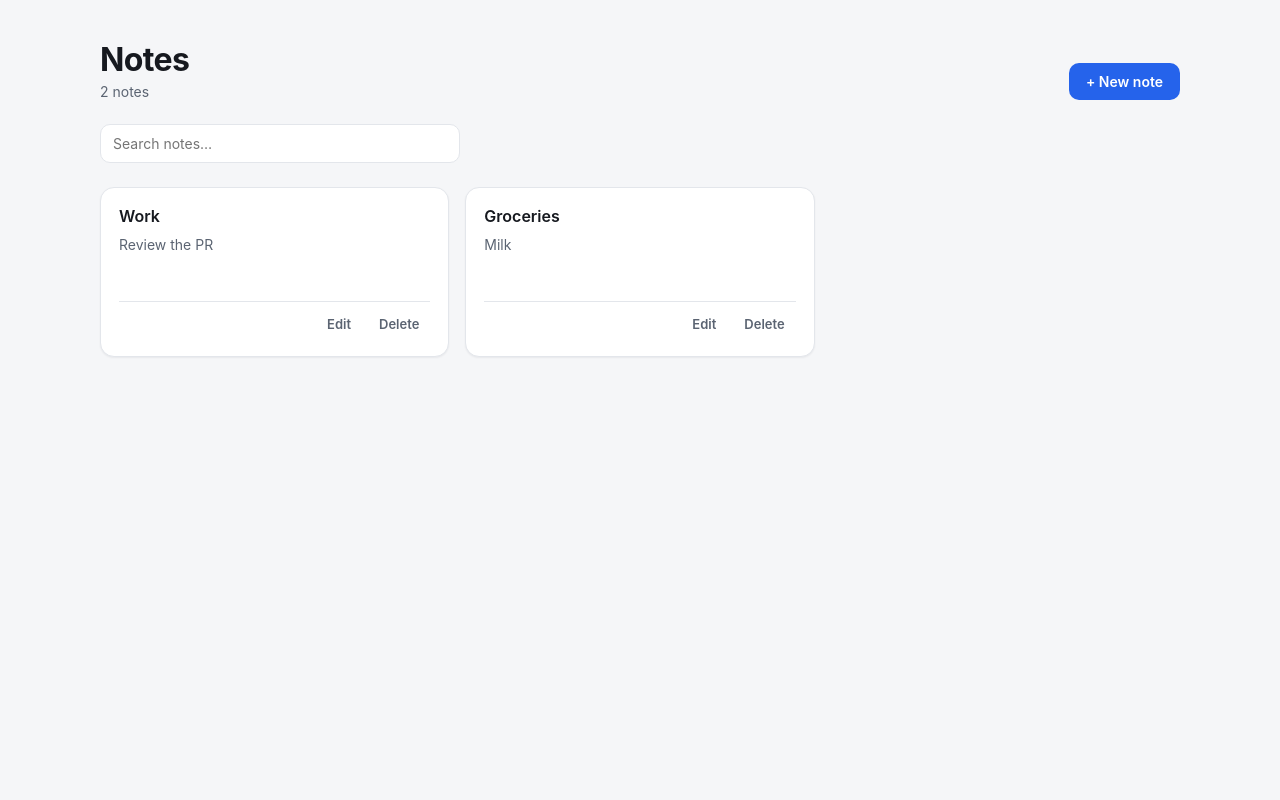
Test: Notes dashboard › rolls back an optimistic delete when the server fails
The width and height of the screenshot is (1280, 800).
Click the button named "Delete \"Work\"" at (399,324), box [368, 310, 430, 338]
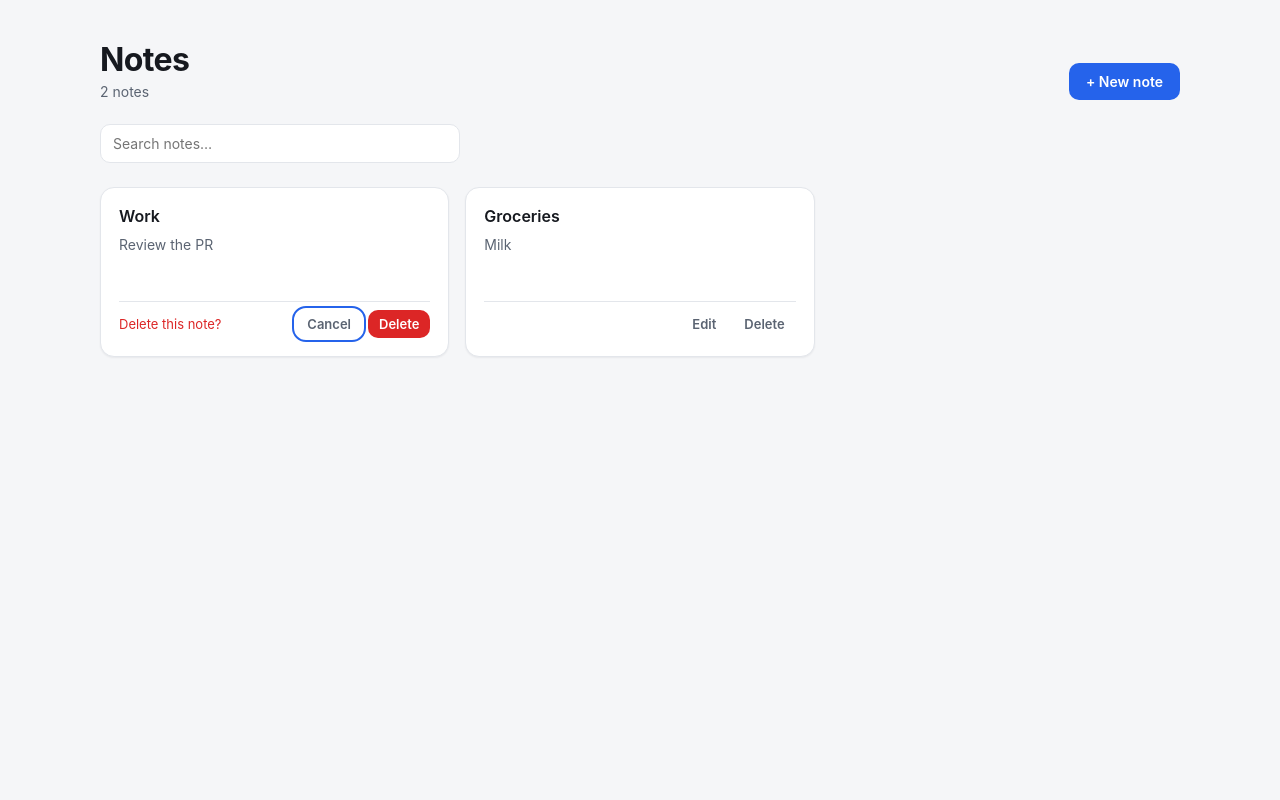
Click the button "Delete" in the row of "Delete this note?" at (399,324), box [368, 310, 430, 338]
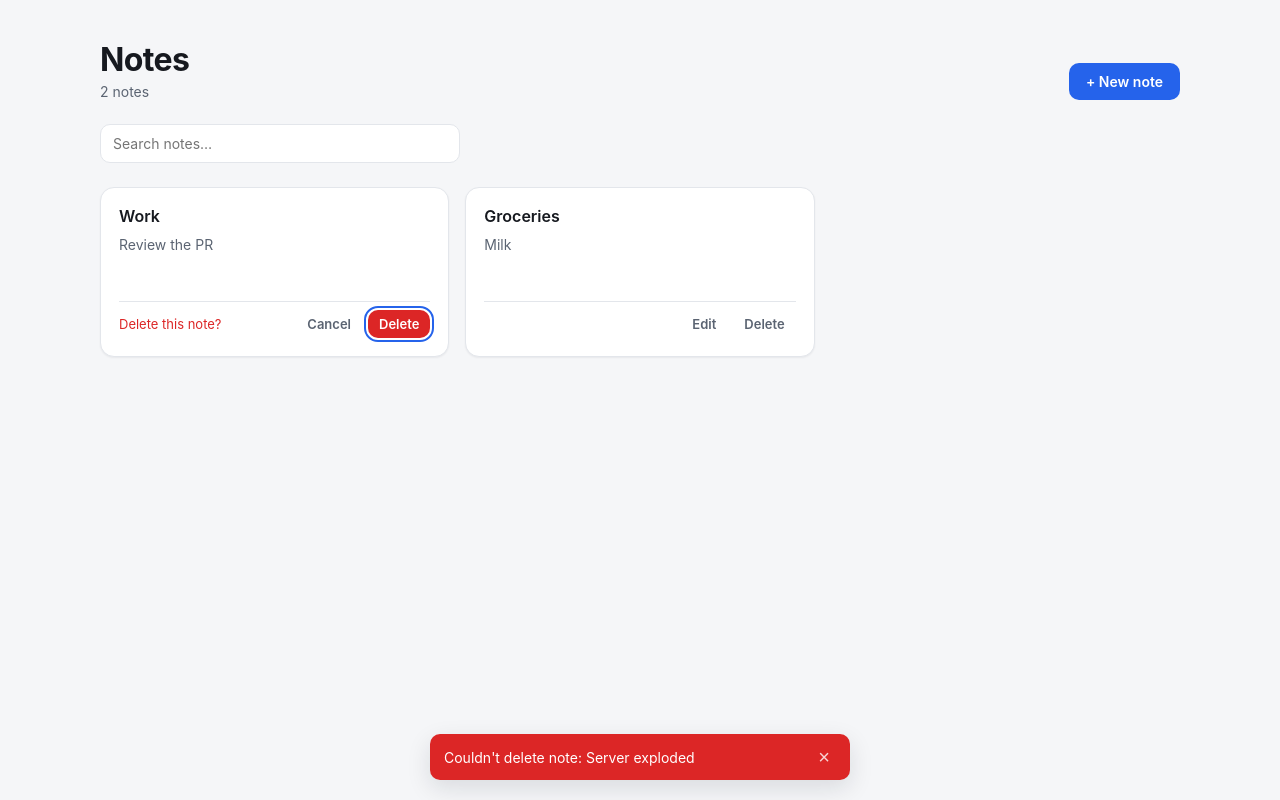
Expected: the heading "Work" is shown, [119, 206, 160, 226]
Expected: the text "Couldn't delete note: Server exploded" is shown, [444, 748, 695, 766]
